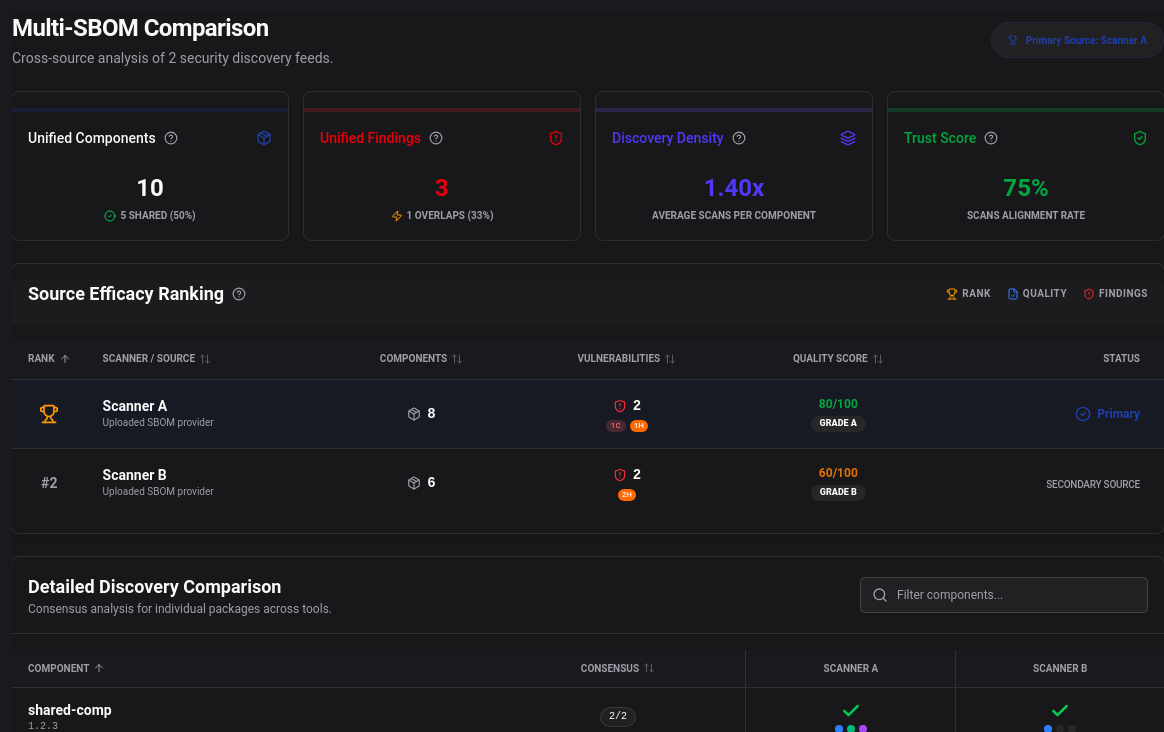
Test: MultiSbomStatsView › renders detailed comparison table and handles search
Expected: the text "shared-comp" is shown, [28,702,112,718]
Type "non-existent" into the field with placeholder "Filter components..." at (1004, 594), box [860,576,1148,612]
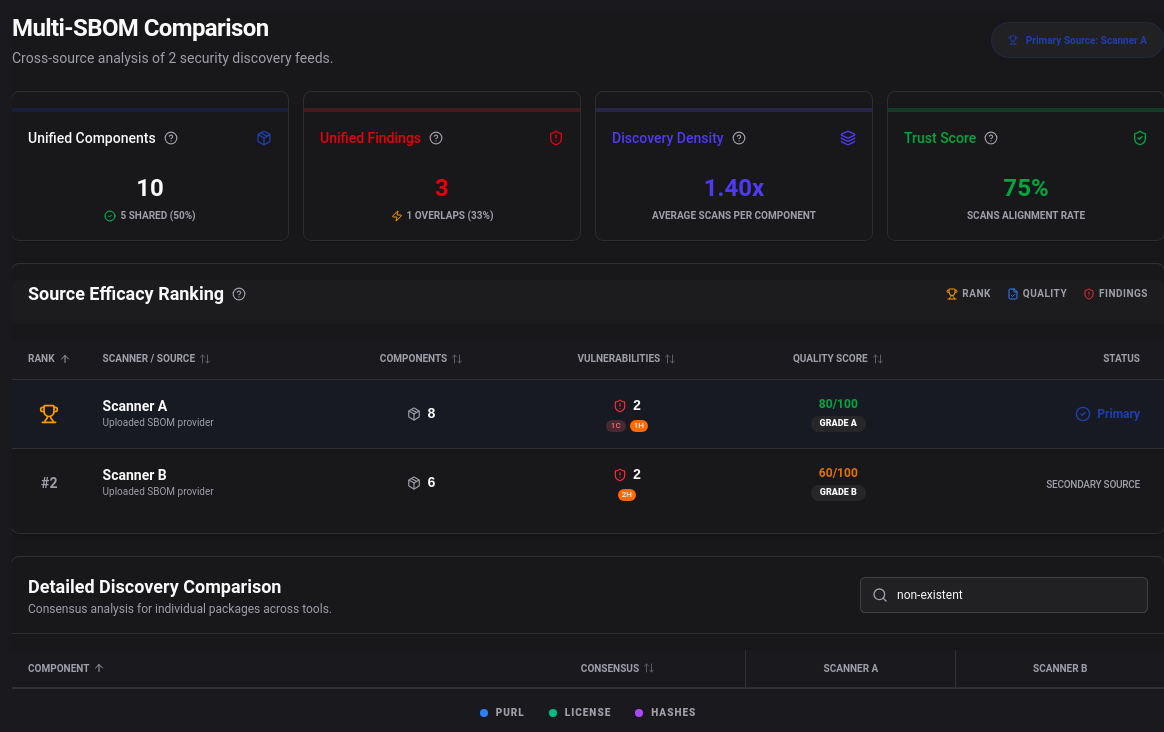
Now the text "shared-comp" is gone
